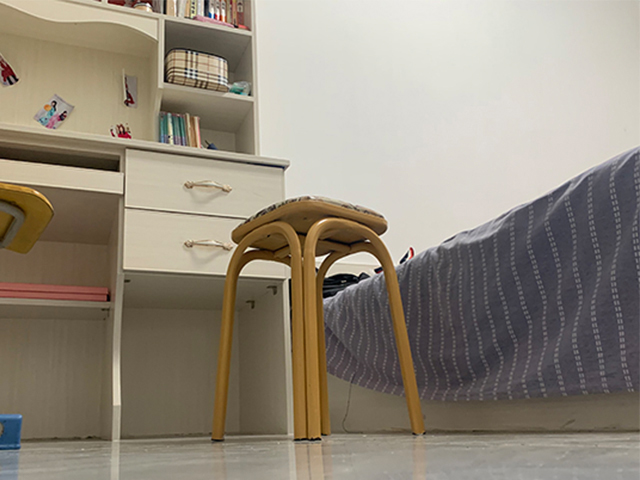bed: (320, 146, 640, 436)
stool: (211, 195, 425, 442)
table: (1, 125, 299, 438)
